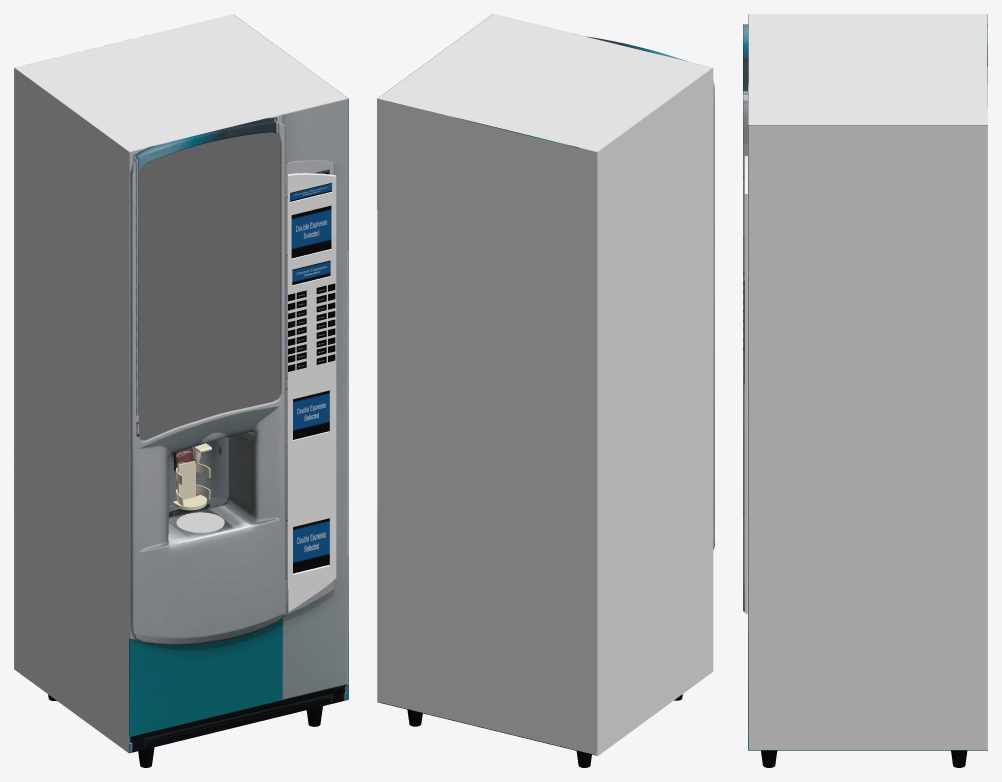
Rendered from coffeemachine.FBX.
3 renders of one model, left to right at view 1: azimuth 30°, elevation 25°; view 2: azimuth 150°, elevation 25°; view 3: azimuth 270°, elevation 25°, orthographic. The views are drawn at different scales.
Parts seen in each view (by area): view 1: Main Body, Front Plant-1, Screen, Fornt Palte_2, Screen_2, Buttons, Glass Tray, SS_tray, Leg; view 2: Main Body, Front Plant-1; view 3: Main Body, Fornt Palte_2, Front Plant-1, Leg.
Part boxes in pixels (<box>): Main Body: <box>14,14,348,753</box>; Front Plant-1: <box>130,121,288,645</box>; Screen: <box>139,132,280,440</box>; Fornt Palte_2: <box>288,173,336,612</box>; Screen_2: <box>290,183,331,573</box>; Buttons: <box>288,283,335,371</box>; Glass Tray: <box>172,460,210,510</box>; SS_tray: <box>176,512,224,533</box>; Leg: <box>48,694,322,767</box>; Main Body: <box>377,14,713,755</box>; Front Plant-1: <box>585,36,714,549</box>; Main Body: <box>748,14,987,750</box>; Fornt Palte_2: <box>744,156,747,613</box>; Front Plant-1: <box>743,24,747,611</box>; Leg: <box>761,750,967,767</box>.
Size of the model in its own units: 660 by 1801 by 612.
